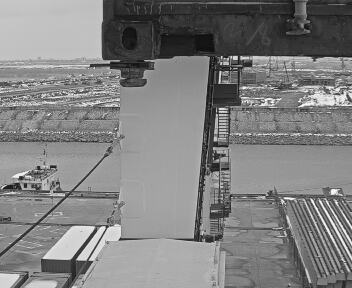twist_lock_1: (103, 52, 159, 94)
